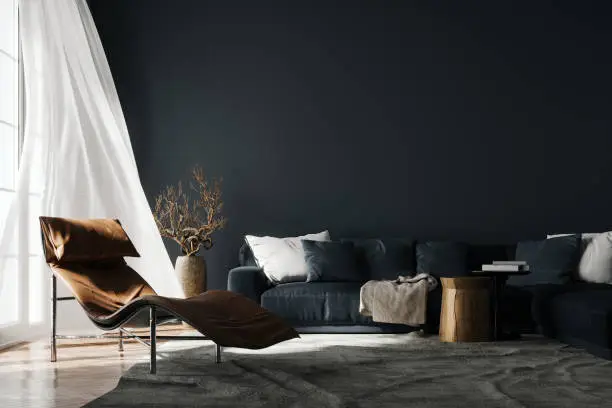chair: (37, 214, 301, 375)
flower vase: (150, 162, 223, 295)
sofa: (228, 231, 612, 359)
table: (468, 256, 533, 343)
